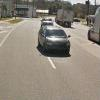Car: (33, 18, 71, 59)
